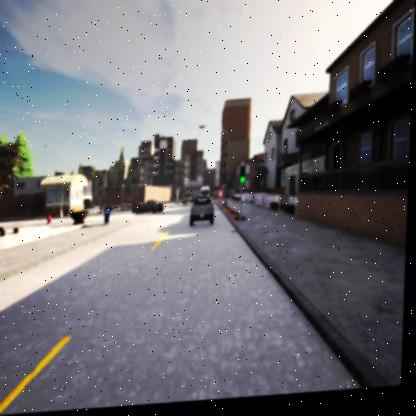vehicle: (189, 200, 218, 228), (134, 202, 167, 217)
